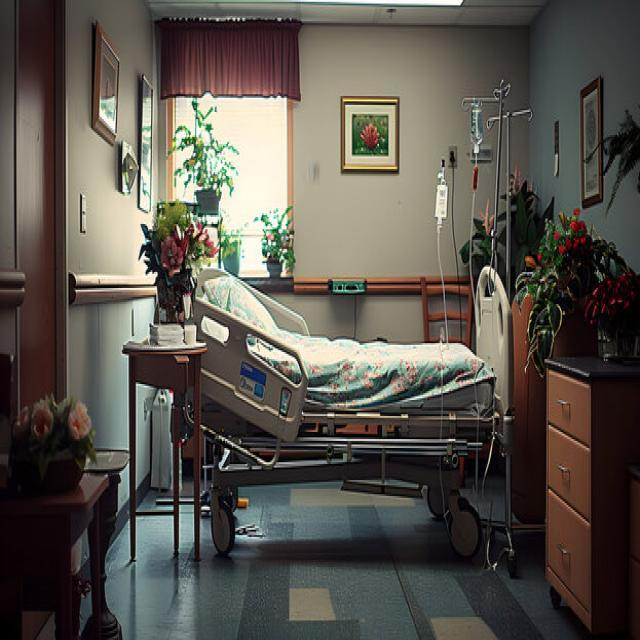bed: (180, 264, 514, 574)
